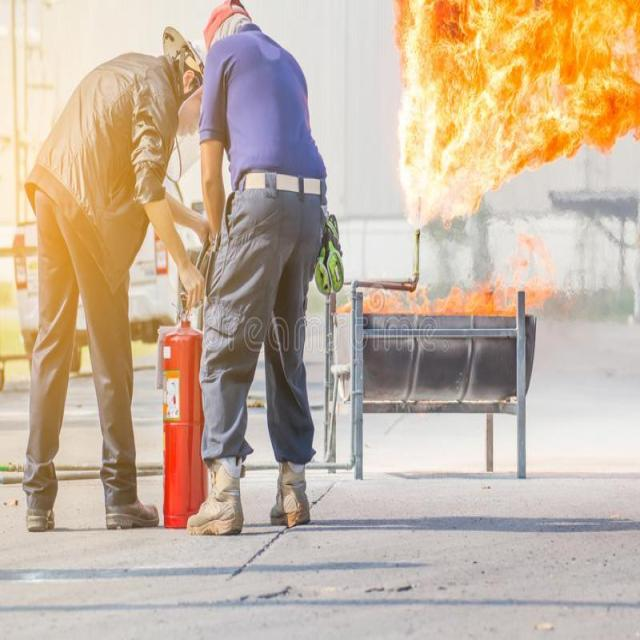fire_extinguisher: (162, 192, 238, 534)
